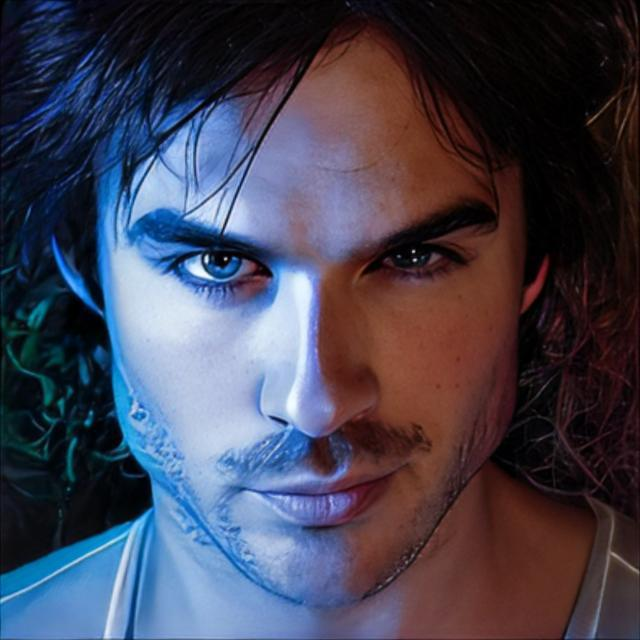content: (94, 23, 522, 614)
